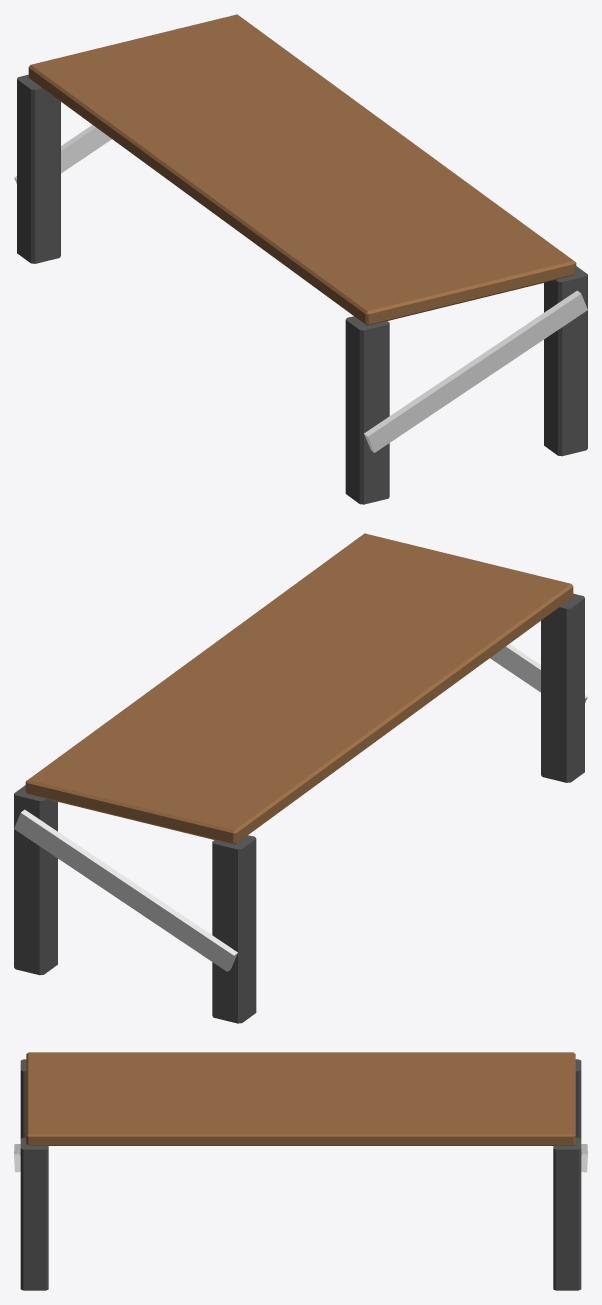
The model's file is Shelf.fbx.
3 views of the same model, one above another, from view 1: azimuth 30°, elevation 25°; view 2: azimuth 150°, elevation 25°; view 3: azimuth 270°, elevation 25° (orthographic). The views are drawn at different scales.
Parts seen in each view (by area): view 1: Cube.002, Cube, Cube.001; view 2: Cube.002, Cube, Cube.001; view 3: Cube.002, Cube, Cube.001.
Part boxes in pixels (x1=…): Cube.002: x1=28, y1=14, x2=576, y2=325; Cube: x1=17, y1=74, x2=587, y2=504; Cube.001: x1=14, y1=125, x2=587, y2=452; Cube.002: x1=25, y1=533, x2=573, y2=844; Cube: x1=14, y1=593, x2=584, y2=1023; Cube.001: x1=14, y1=644, x2=587, y2=971; Cube.002: x1=26, y1=1052, x2=575, y2=1145; Cube: x1=20, y1=1059, x2=581, y2=1290; Cube.001: x1=14, y1=1144, x2=587, y2=1172.
Size of the model in its own units: 981 by 365 by 287.
